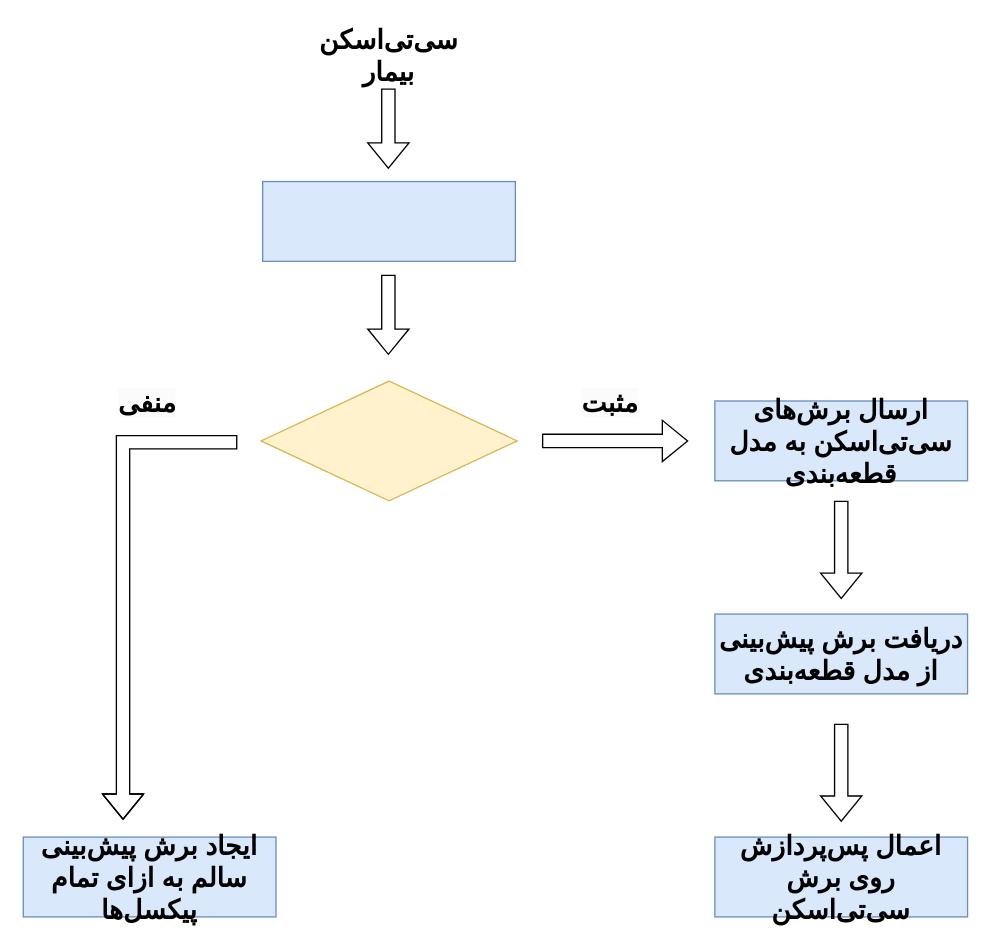
The diagram is 991 pixels wide and 947 high, and some of its shapes have lost their labels. Here are the shapes that lost their labels. From the top down, the centre of each, then its label:
the point at 388,220: ارسال برش‌های سی‌تی‌اسکن به مدل طبقه‌بندی
the point at 388,440: وجود ضایعه خونریزی
